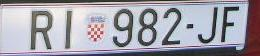-: (185, 23, 194, 29)
2: (162, 8, 180, 45)
8: (138, 9, 157, 48)
9: (113, 9, 131, 48)
F: (221, 6, 239, 42)
I: (64, 11, 72, 48)
J: (198, 7, 217, 44)
R: (31, 10, 53, 50)
